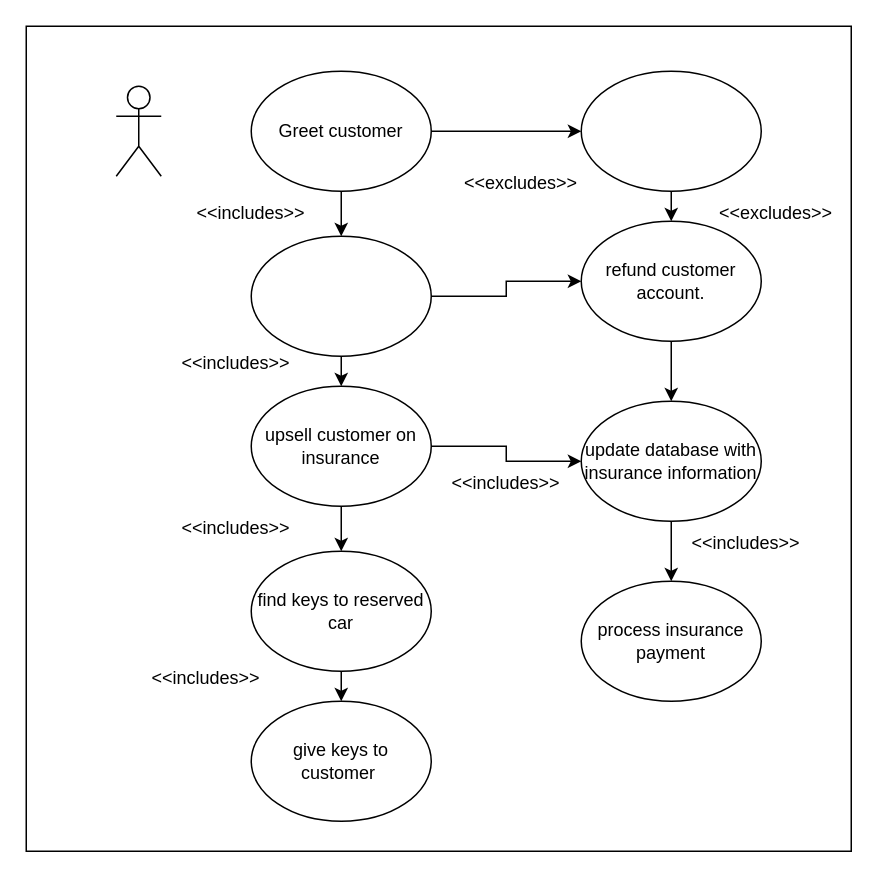
This 878x878 diagram has some shape labels left out. The centre of each missing label's shape, as x and y in pixels:
Attendent: the point at 138,130
customer cancels: the point at 670,130
Review reservation information.: the point at 340,295
